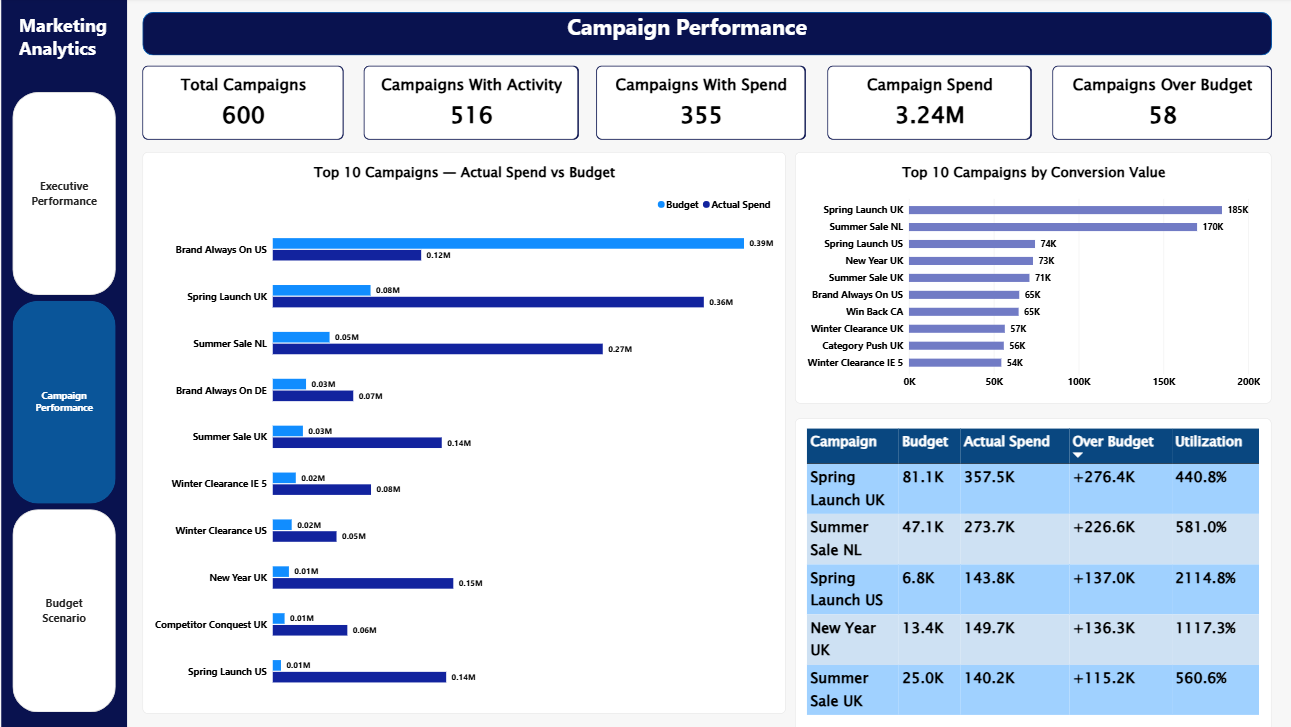

Layout of this report page (visuals, bound fields, positions):
{"tool":"powerbi","page":{"name":"Campaign Performance","canvas":[1920,1080],"ordinal":1},"visuals":[{"type":"shape","box":[16.5,2.1,185.2,1078.6],"z":0},{"type":"textbox","box":[43.2,22.6,141.9,125.2],"z":1000},{"type":"pageNavigator","box":[32.9,140,152.3,916],"z":2000},{"type":"shape","box":[224.4,22.6,1663.1,63.8],"z":3000},{"type":"textbox","box":[806.9,22.6,440.5,49.4],"z":4000},{"type":"cardVisual","fields":{"Data":["campaign_performance.Campaigns With Activity"]},"box":[549.6,100.9,317,109.1],"z":5000},{"type":"cardVisual","fields":{"Data":["campaign_performance.Campaigns With Spend"]},"box":[893.3,100.9,308.7,109.1],"z":6000},{"type":"cardVisual","fields":{"Data":["campaign_performance.Campaign Spend"]},"box":[1232.9,100.9,300.5,109.1],"z":7000},{"type":"cardVisual","fields":{"Data":["campaign_performance.Campaigns Over Budget"]},"box":[1564.3,100.9,323.2,109.1],"z":8000},{"type":"cardVisual","fields":{"Data":["campaign_performance.Total Campaigns"]},"box":[224.4,100.9,296.4,109.1],"z":9000},{"type":"clusteredBarChart","title":"Top 10 Campaigns — Actual Spend vs Budget","fields":{"Category":["campaign_performance.campaign_name"],"Y":["Sum(campaign_performance.budget)","Sum(campaign_performance.spend)"]},"box":[224.4,228.5,946.8,827.4],"z":10000},{"type":"clusteredBarChart","title":"Top 10 Campaigns by Conversion Value","fields":{"Category":["campaign_performance.campaign_name"],"Y":["Sum(campaign_performance.conversion_value)"]},"box":[1185.6,228.5,701.9,370.5],"z":11000},{"type":"tableEx","fields":{"Values":["campaign_performance.campaign_name","campaign_performance.Budget Display","campaign_performance.Actual Spend Display","campaign_performance.Over Budget Display","campaign_performance.Budget Utilization Display"]},"box":[1185.6,619.6,701.9,461.1],"z":12000}]}

Visuals, with their boxes in screenshot pixels (x1, y1, x2, y2), scaled from the page's 1920x1080 canvas onto the 1291x727 screenshot:
shape: select_region(11, 1, 136, 726)
textbox: select_region(29, 15, 124, 99)
pageNavigator: select_region(22, 94, 125, 711)
shape: select_region(151, 15, 1269, 58)
textbox: select_region(543, 15, 839, 48)
cardVisual - campaign_performance.Campaigns With Activity: select_region(370, 68, 583, 141)
cardVisual - campaign_performance.Campaigns With Spend: select_region(601, 68, 808, 141)
cardVisual - campaign_performance.Campaign Spend: select_region(829, 68, 1031, 141)
cardVisual - campaign_performance.Campaigns Over Budget: select_region(1052, 68, 1269, 141)
cardVisual - campaign_performance.Total Campaigns: select_region(151, 68, 350, 141)
"Top 10 Campaigns — Actual Spend vs Budget" clusteredBarChart: select_region(151, 154, 788, 711)
"Top 10 Campaigns by Conversion Value" clusteredBarChart: select_region(797, 154, 1269, 403)
tableEx - campaign_performance.campaign_name x campaign_performance.Budget Display: select_region(797, 417, 1269, 726)
